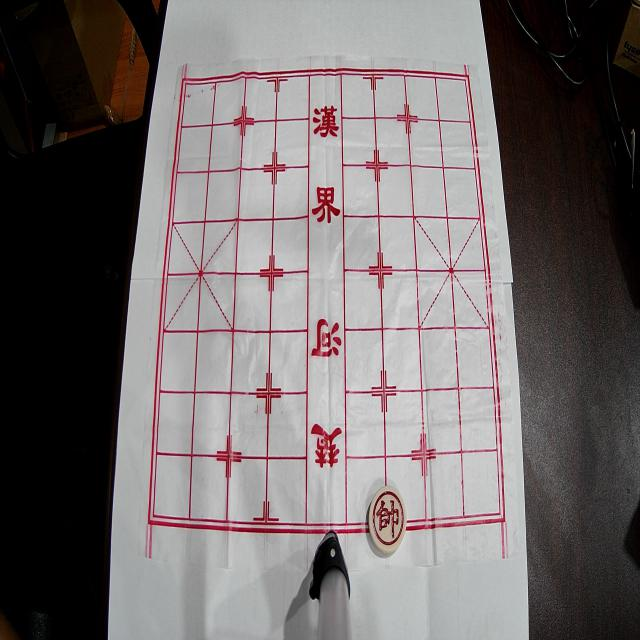red-general: (368, 486, 406, 554)
